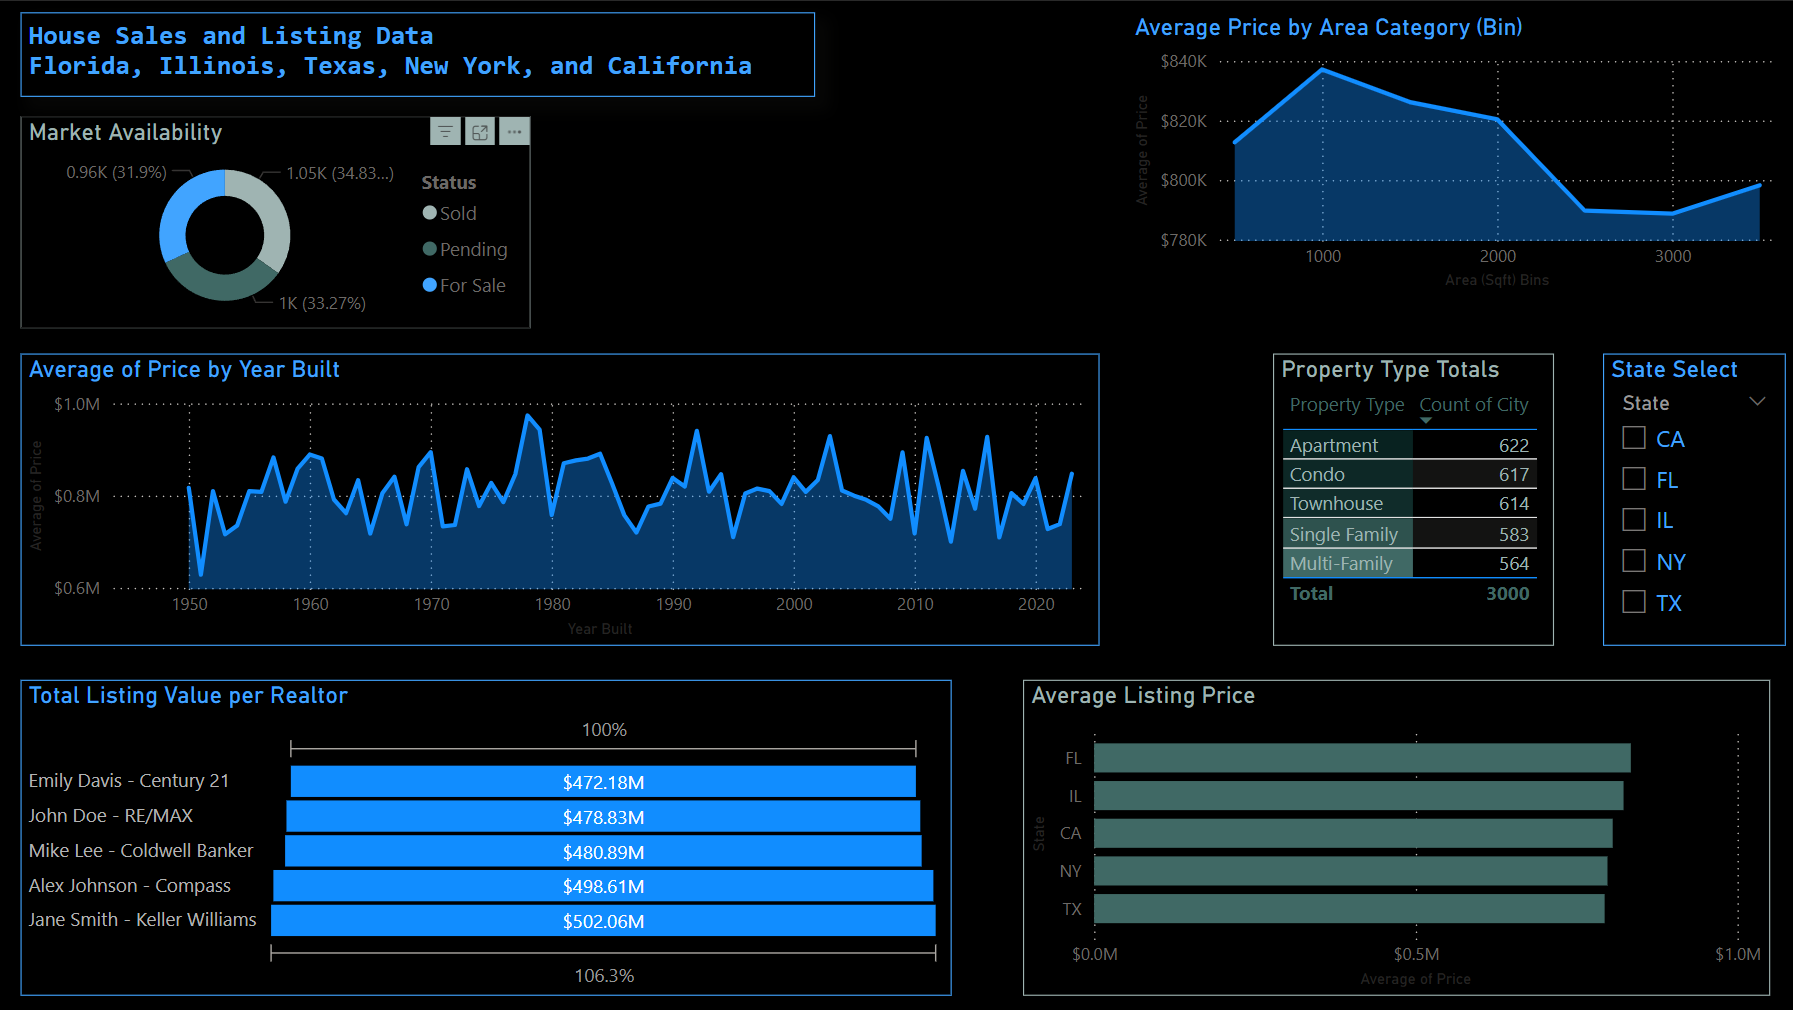

This screenshot's page, from the dashboard's own definition file:
{"tool":"powerbi","page":{"name":"Metrics","canvas":[1280,720],"ordinal":0},"visuals":[{"type":"textbox","box":[15.9,8,563.5,60.2],"z":0},{"type":"donutChart","title":"Market Availability","fields":{"Y":["us_house_Sales_data.Status"],"Category":["us_house_Sales_data.Status"]},"box":[15.9,81.5,361.5,150.6],"z":1000},{"type":"stackedAreaChart","fields":{"Category":["us_house_Sales_data.Year Built"],"Y":["us_house_Sales_data.Price"]},"box":[15.9,249.8,764.6,207.3],"z":2000},{"type":"clusteredBarChart","title":"Average Listing Price","fields":{"Category":["us_house_Sales_data.Bedrooms","us_house_Sales_data.State"],"Y":["us_house_Sales_data.Price"]},"box":[726.5,481.1,529.8,224.1],"z":3000},{"type":"slicer","title":"State Select","fields":{"Values":["us_house_Sales_data.State"]},"box":[1137.5,249.8,129.3,207.3],"z":4000},{"type":"tableEx","title":"Property Type Totals","fields":{"Values":["us_house_Sales_data.Property Type","us_house_Sales_data.City"]},"box":[903.7,249.8,199.3,207.3],"z":5000},{"type":"funnel","title":"Total Listing Value per Realtor","fields":{"Category":["us_house_Sales_data.Listing Agent"],"Y":["us_house_Sales_data.Price"]},"box":[15.9,481.1,660,224.1],"z":6000},{"type":"areaChart","title":"Average Price by Area Category (Bin)","fields":{"Y":["us_house_Sales_data.Price"],"Category":["us_house_Sales_data.Area (Sqft) Bins"]},"box":[800.9,8,466,201.1],"z":7000}]}

Visuals, with their boxes in screenshot pixels (x1, y1, x2, y2), scaled from the page's 1280x720 canvas onto the 1793x1010 screenshot:
textbox: x1=22, y1=11, x2=812, y2=96
"Market Availability" donutChart: x1=22, y1=114, x2=529, y2=326
stackedAreaChart - us_house_Sales_data.Year Built x us_house_Sales_data.Price: x1=22, y1=350, x2=1093, y2=641
"Average Listing Price" clusteredBarChart: x1=1018, y1=675, x2=1760, y2=989
"State Select" slicer: x1=1593, y1=350, x2=1775, y2=641
"Property Type Totals" tableEx: x1=1266, y1=350, x2=1545, y2=641
"Total Listing Value per Realtor" funnel: x1=22, y1=675, x2=947, y2=989
"Average Price by Area Category (Bin)" areaChart: x1=1122, y1=11, x2=1775, y2=293
